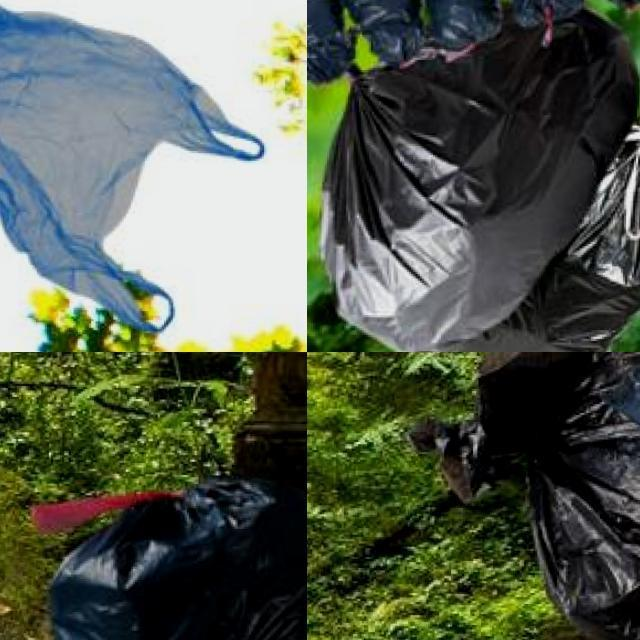waste: (309, 26, 640, 352), (0, 1, 267, 336), (457, 352, 640, 640), (31, 470, 307, 640), (457, 119, 640, 352), (342, 0, 421, 68), (412, 0, 498, 53), (307, 0, 353, 83), (497, 0, 582, 31), (612, 352, 640, 432)
